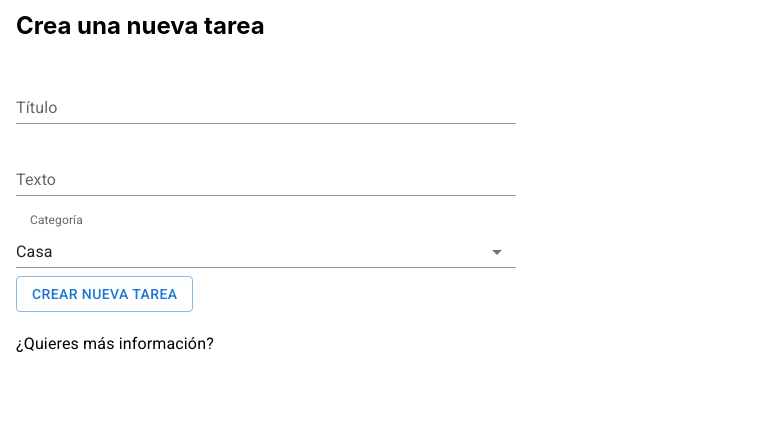
it: pruebas sobre componente Formulario › debería aparecer el popover con el hover del ratón
expect the text "podrás crear una nueva tarea" is not shown: met
Hover over the text "¿Quieres más información?" at (115, 344), box top-left (16, 334), bottom-right (214, 353)
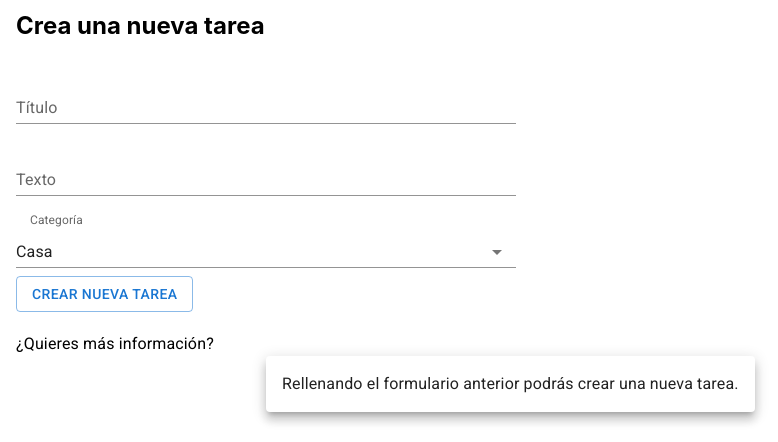
expect the text "podrás crear una nueva tarea" is shown: met, box top-left (282, 374), bottom-right (739, 393)
Move the pointer off the text "¿Quieres más información?", box top-left (16, 334), bottom-right (214, 353)
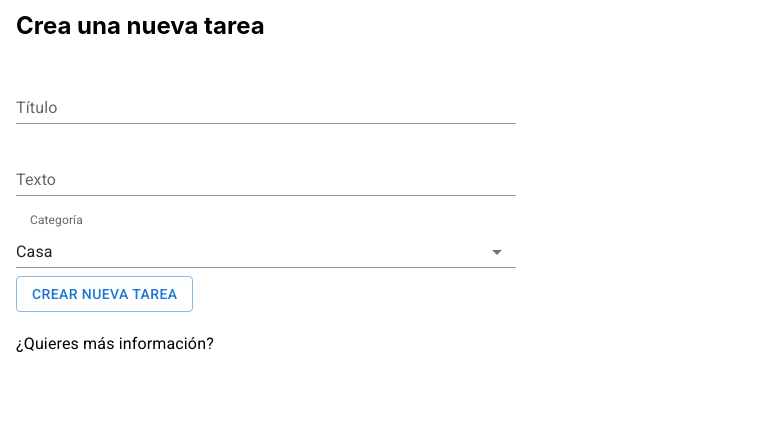
expect the text "podrás crear una nueva tarea" is gone: met
